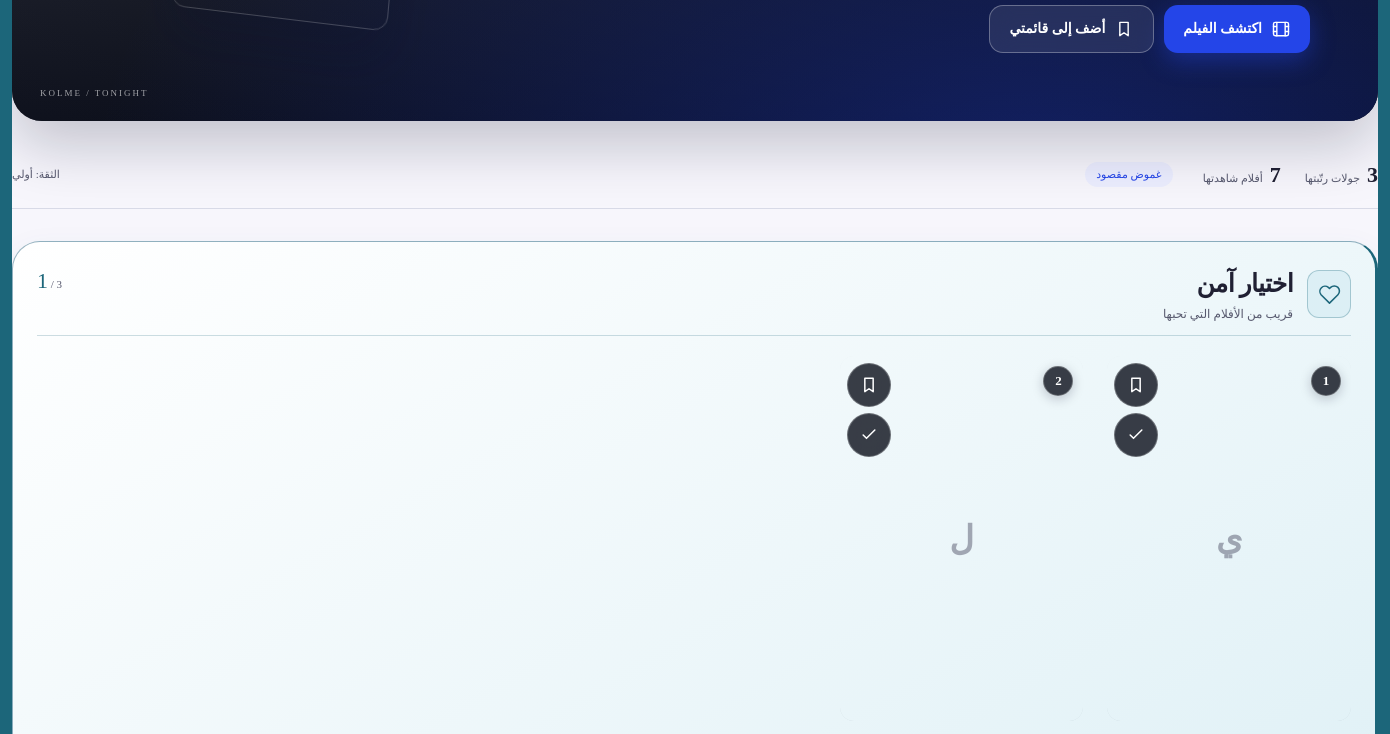
Scenario: RecommendationsScreen — ready › saves from the shelf without opening a film and shows the saved outcome in place
(page scrolled)
Click the 2nd button named "أضف إلى قائمتي": (1136, 385) left=1114, top=363, right=1158, bottom=407
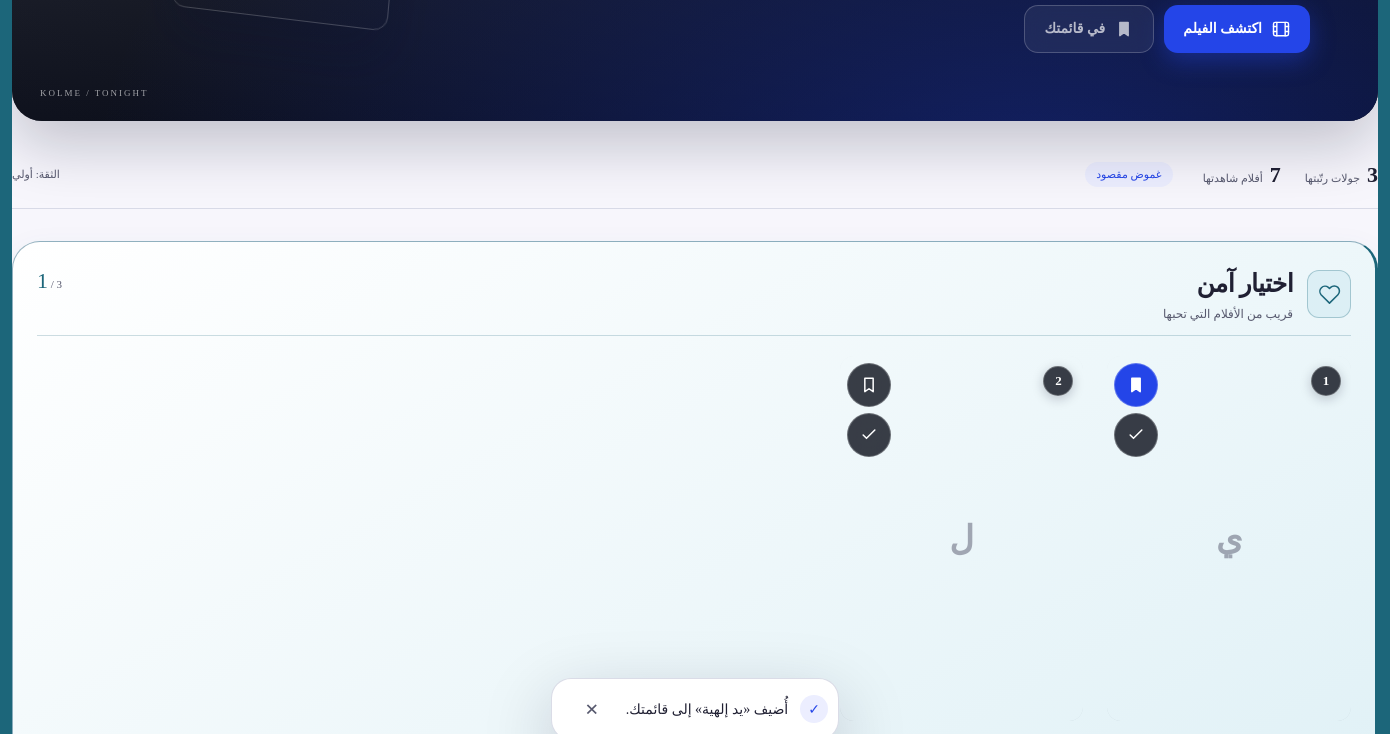
Check: the button named "في قائمتك" is disabled, box left=1114, top=363, right=1158, bottom=407
Check: the message reads "أُضيف «يد إلهية» إلى قائمتك.", box left=626, top=702, right=788, bottom=716
